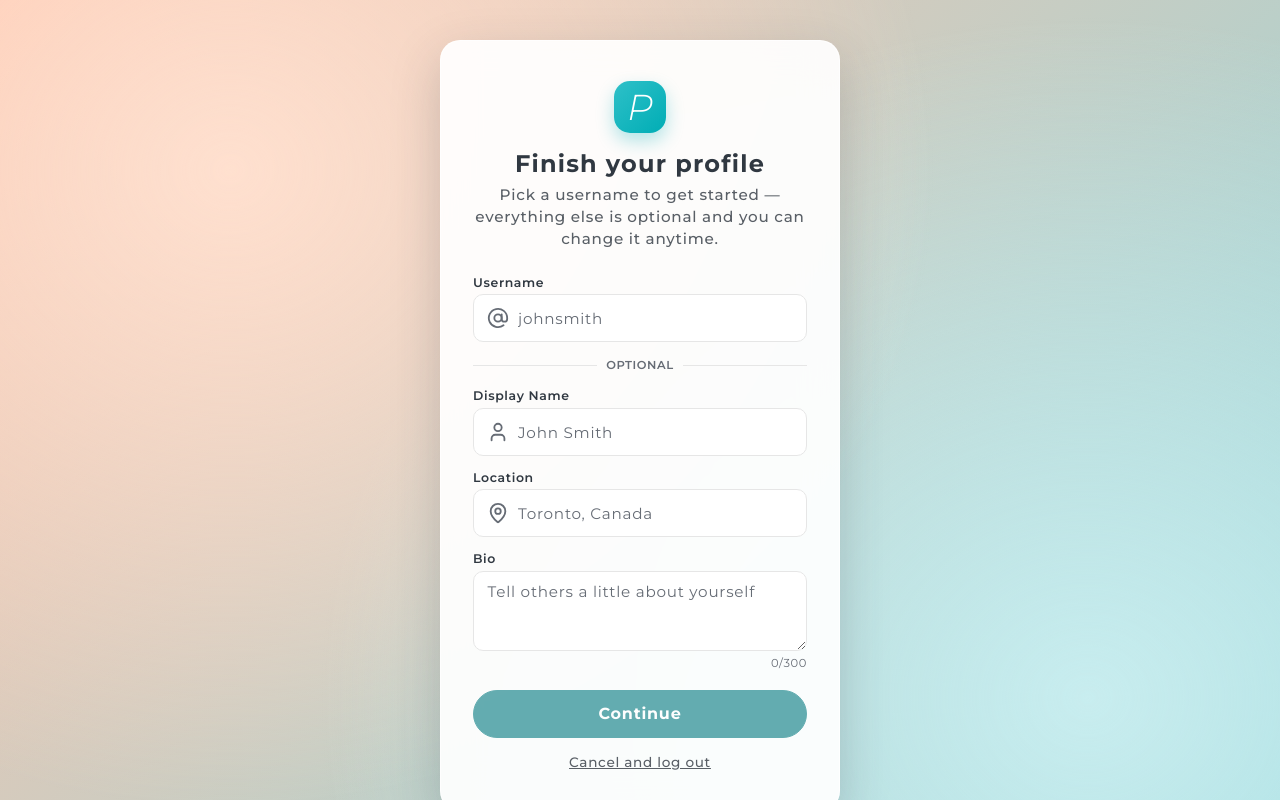
it: CreateUsername (onboarding) › disables Continue until a username is available
Expected: the heading "Finish your profile" is shown, [515,149,765,178]
Expected: the button "Continue" is disabled, [473,690,807,738]
In the field labelled "Username": (640, 318) [473,294,807,342], type "validuser"
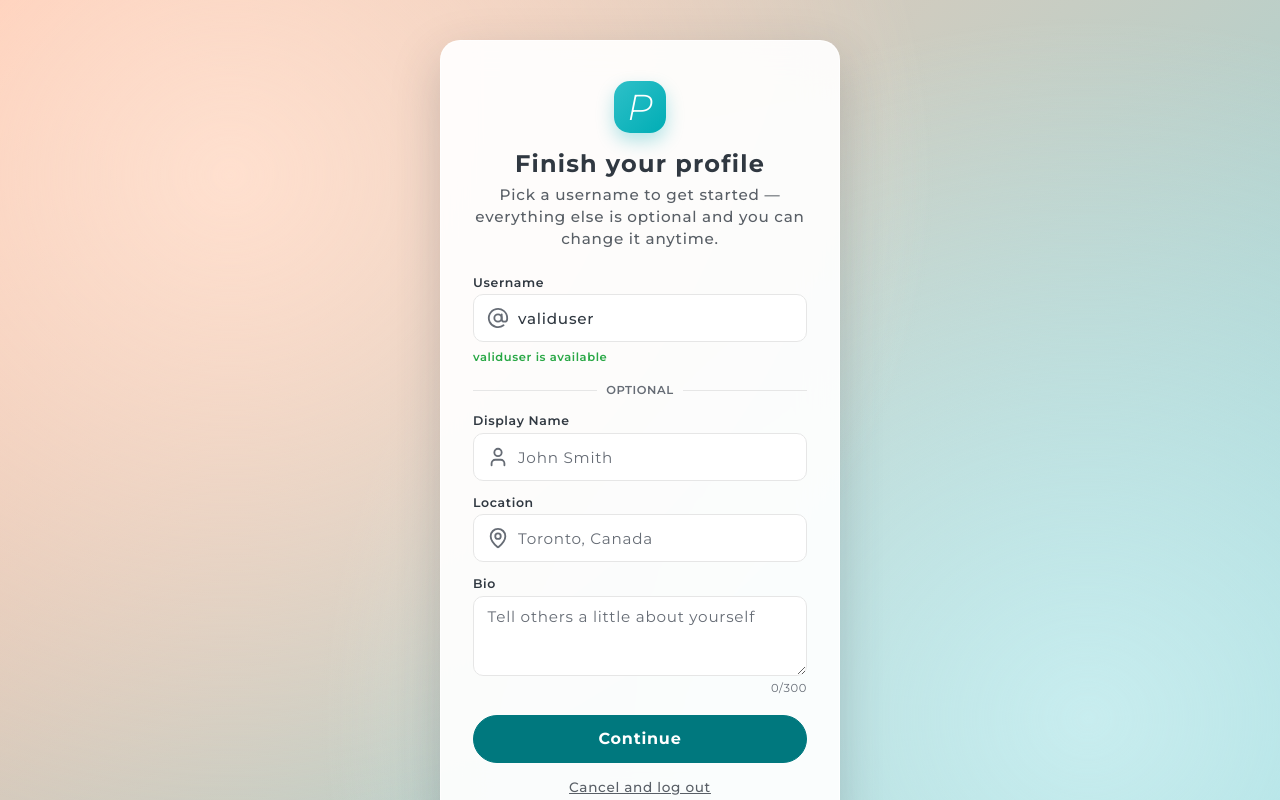
Result: the button "Continue" is enabled at [473,715,807,763]
